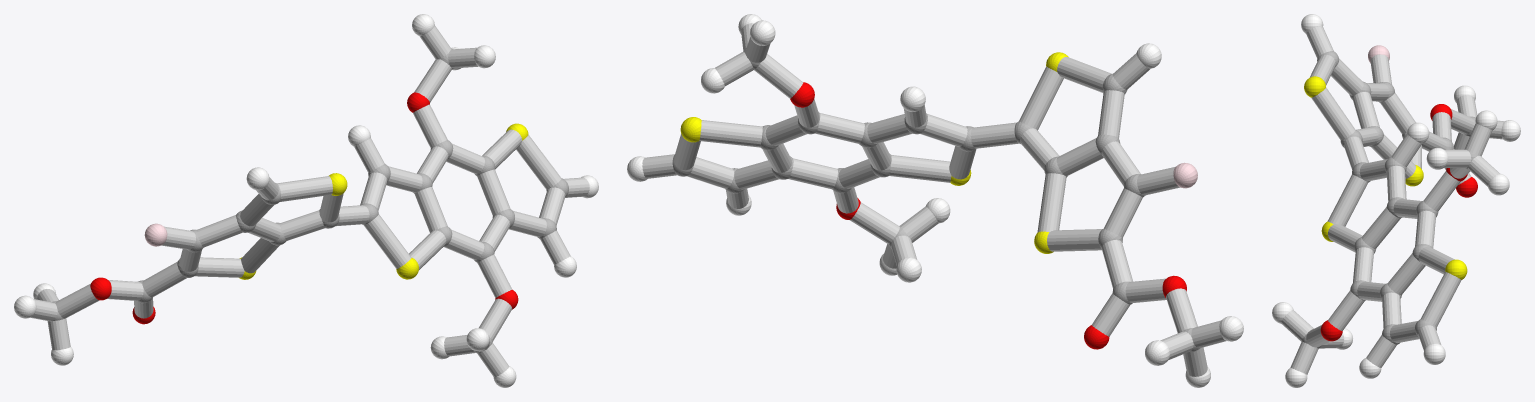
Rendered from Dimethoxy_Benzodithiophene_Phi_10_Theta_280_Methylcarbonyl_3_Fluoro_Thienothiophene.glb.
3 views of the same model, side by side, from view 1: azimuth 30°, elevation 25°; view 2: azimuth 150°, elevation 25°; view 3: azimuth 270°, elevation 25° (orthographic). The views are drawn at different scales.
Visible parts, largest first — view 1: grp15205, grp8689, grp1, grp13395, grp7241; view 2: grp15205, grp8689, grp1, grp13395, grp7241, grp14843; view 3: grp15205, grp8689, grp1, grp7241, grp13395.
Part boxes in pixels (x1=…): grp15205: x1=30, y1=26, x2=589, y2=377; grp8689: x1=14, y1=14, x2=598, y2=387; grp1: x1=52, y1=49, x2=568, y2=353; grp13395: x1=90, y1=92, x2=518, y2=324; grp7241: x1=239, y1=123, x2=528, y2=279; grp15205: x1=642, y1=23, x2=1226, y2=376; grp8689: x1=627, y1=14, x2=1243, y2=387; grp1: x1=672, y1=48, x2=1199, y2=351; grp13395: x1=790, y1=82, x2=1186, y2=349; grp7241: x1=680, y1=52, x2=1068, y2=253; grp14843: x1=1173, y1=162, x2=1197, y2=188; grp15205: x1=1281, y1=26, x2=1503, y2=374; grp8689: x1=1272, y1=14, x2=1520, y2=387; grp1: x1=1302, y1=51, x2=1478, y2=348; grp7241: x1=1304, y1=76, x2=1467, y2=279; grp13395: x1=1320, y1=104, x2=1477, y2=341.
Size of the model in its own units: 17.03 by 8.49 by 6.74.
